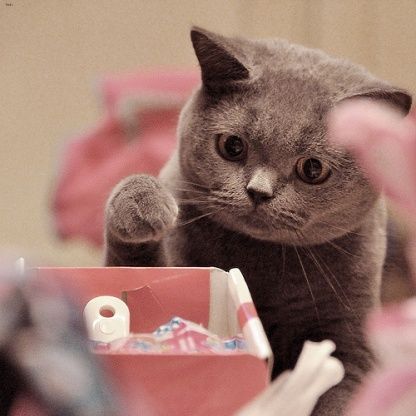british_shorthair: (104, 24, 412, 411)
